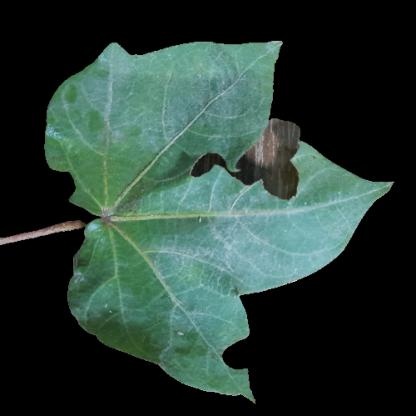healthy: (120, 217, 288, 285), (79, 84, 256, 141), (118, 289, 227, 356), (66, 137, 162, 200), (250, 205, 333, 266), (182, 44, 256, 79), (306, 155, 337, 208)
